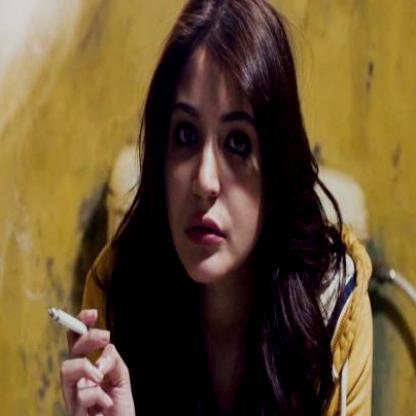cigarette: (44, 307, 92, 338)
person: (95, 0, 348, 415)
